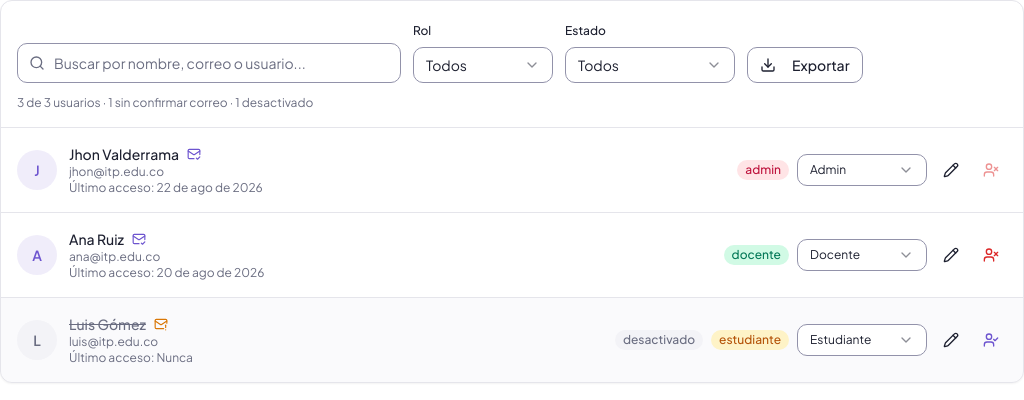
Test: Gestión de usuarios › busca por nombre, correo o usuario
This screenshot has width=1024, height=400.
Check: the text "Ana Ruiz" is shown, box [69,230,146,248]
Type "luis@" into the field named "Buscar usuario" at (209, 63), box [17,43,401,83]
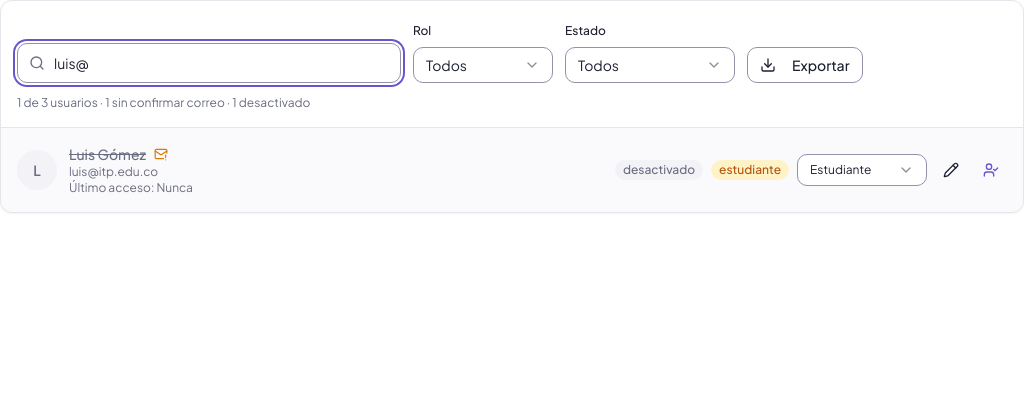
Check: the text "Luis Gómez" is shown, box [69,145,168,163]
Check: the text "Ana Ruiz" is gone
